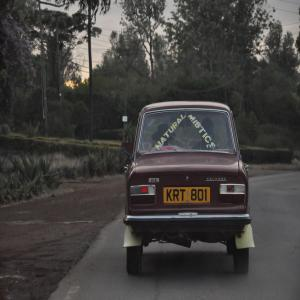Vehicle-registration-plate: (164, 188, 211, 206)
